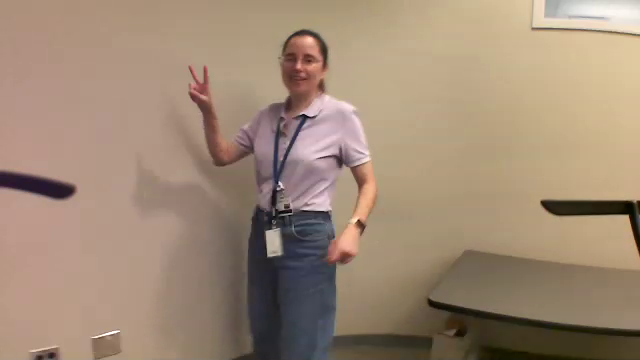peace: (178, 55, 215, 107)
